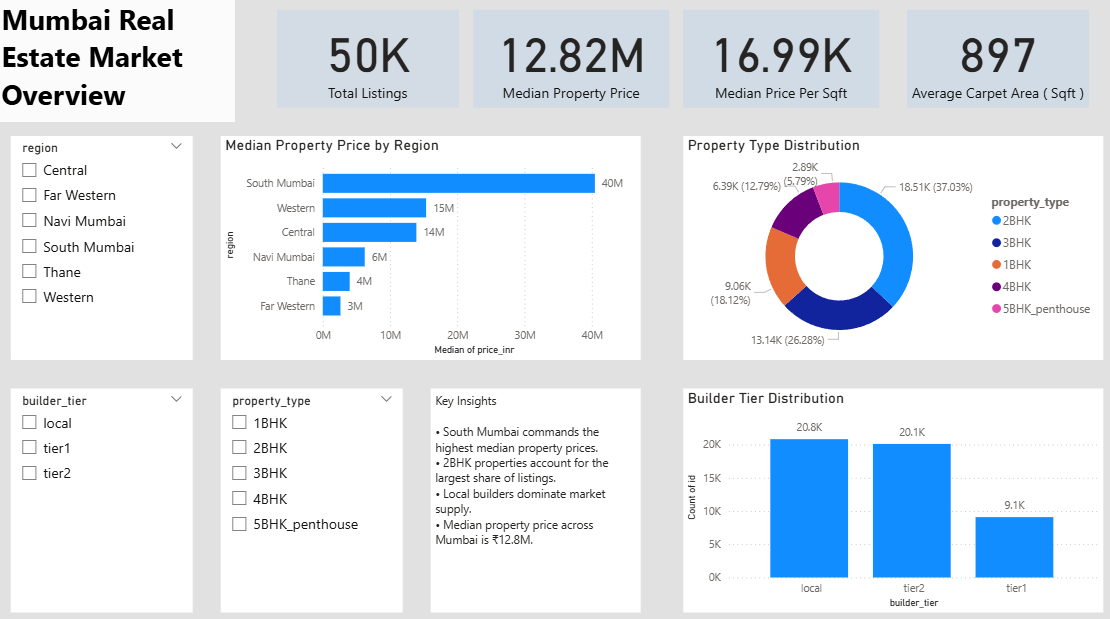

The dashboard page shown, as its layout file describes it:
{"tool":"powerbi","page":{"name":"Executive Overview","canvas":[1280,720],"ordinal":0},"visuals":[{"type":"card","fields":{"Values":["mumbai_real_estate_dashboard.Total Listings"]},"box":[320,16,208,112],"z":0},{"type":"card","fields":{"Values":["mumbai_real_estate_dashboard.Median Price"]},"box":[544,16,224,112],"z":1},{"type":"card","fields":{"Values":["mumbai_real_estate_dashboard.Median Price Per Sqft"]},"box":[784,16,224,112],"z":2},{"type":"card","fields":{"Values":["mumbai_real_estate_dashboard.Average Carpet Area"]},"box":[1040,16,208,112],"z":3},{"type":"clusteredBarChart","title":"Median Property Price by Region","fields":{"Category":["mumbai_real_estate_dashboard.region"],"Y":["Median(mumbai_real_estate_dashboard.price_inr)"]},"box":[256,160,480,256],"z":4},{"type":"donutChart","title":"Property Type Distribution","fields":{"Y":["CountNonNull(mumbai_real_estate_dashboard.id)"],"Category":["mumbai_real_estate_dashboard.property_type"]},"box":[784,160,480,256],"z":5},{"type":"columnChart","title":"Builder Tier Distribution","fields":{"Category":["mumbai_real_estate_dashboard.builder_tier"],"Y":["CountNonNull(mumbai_real_estate_dashboard.id)"]},"box":[784,448,480,256],"z":6},{"type":"slicer","fields":{"Values":["mumbai_real_estate_dashboard.region"]},"box":[16,160,208,256],"z":7},{"type":"slicer","fields":{"Values":["mumbai_real_estate_dashboard.property_type"]},"box":[256,448,208,256],"z":8},{"type":"slicer","fields":{"Values":["mumbai_real_estate_dashboard.builder_tier"]},"box":[16,448,208,256],"z":9},{"type":"textbox","box":[496,448,240,256],"z":10},{"type":"textbox","box":[0,0,272,144],"z":11}]}

Visuals, with their boxes in screenshot pixels (x1, y1, x2, y2), scaled from the page's 1280x720 canvas onto the 1110x619 screenshot:
card - mumbai_real_estate_dashboard.Total Listings: bbox(278, 14, 458, 110)
card - mumbai_real_estate_dashboard.Median Price: bbox(472, 14, 666, 110)
card - mumbai_real_estate_dashboard.Median Price Per Sqft: bbox(680, 14, 874, 110)
card - mumbai_real_estate_dashboard.Average Carpet Area: bbox(902, 14, 1082, 110)
"Median Property Price by Region" clusteredBarChart: bbox(222, 138, 638, 358)
"Property Type Distribution" donutChart: bbox(680, 138, 1096, 358)
"Builder Tier Distribution" columnChart: bbox(680, 385, 1096, 605)
slicer - mumbai_real_estate_dashboard.region: bbox(14, 138, 194, 358)
slicer - mumbai_real_estate_dashboard.property_type: bbox(222, 385, 402, 605)
slicer - mumbai_real_estate_dashboard.builder_tier: bbox(14, 385, 194, 605)
textbox: bbox(430, 385, 638, 605)
textbox: bbox(0, 0, 236, 124)
